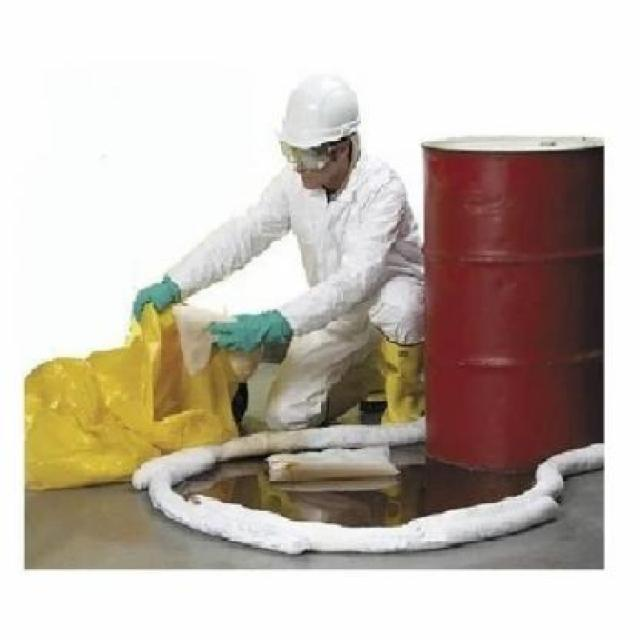spillage: (206, 424, 534, 527)
